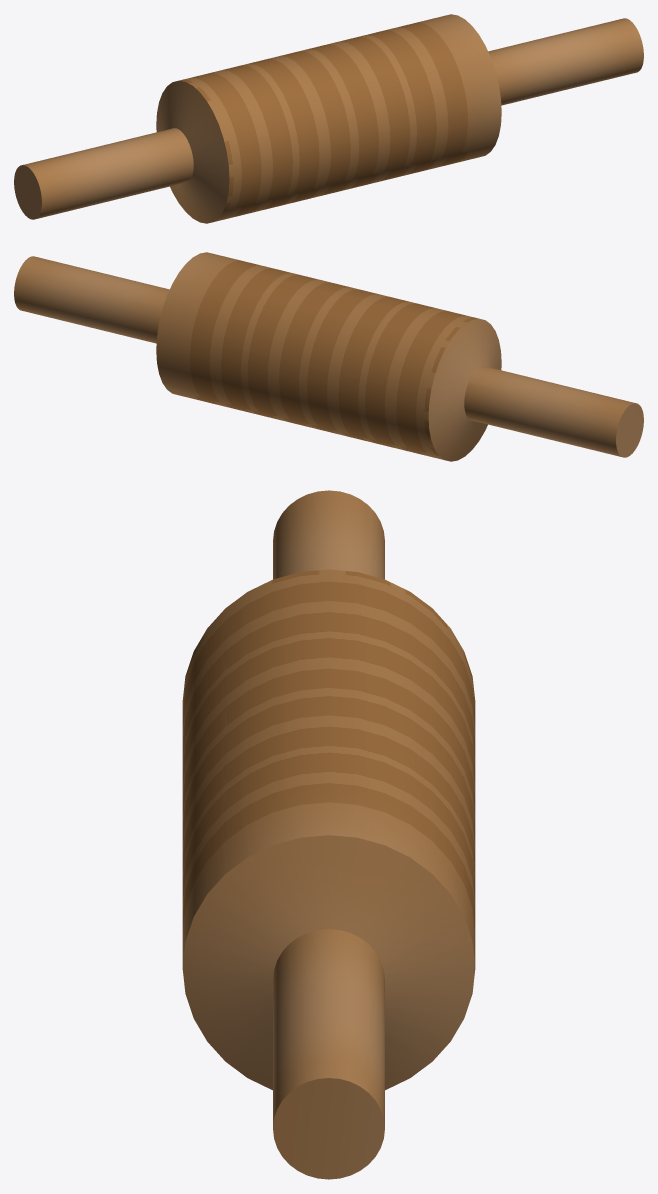
The model's file is cricket_bail.fbx.
3 renders of one model, top to bottom at view 1: azimuth 30°, elevation 25°; view 2: azimuth 150°, elevation 25°; view 3: azimuth 270°, elevation 25°, orthographic. The views are drawn at different scales.
Visible parts, largest first — view 1: bail.001; view 2: bail.001; view 3: bail.001.
Part boxes in pixels (x1,y1,x2,y2): bail.001: (14,14,643,223); bail.001: (14,252,643,461); bail.001: (182,490,475,1179).
Bounding box in the file's own units: 12.34 × 2.6 × 2.6.
